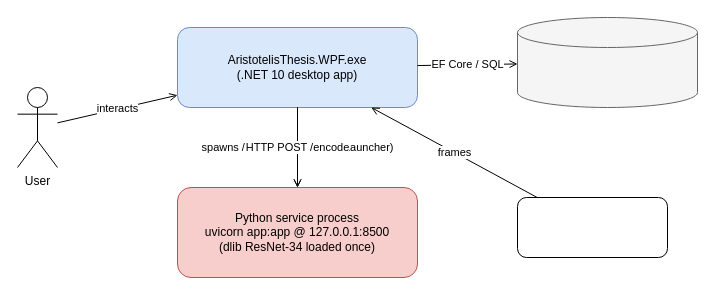
This 715x295 diagram has some shape labels left out. The centre of each missing label's shape, as x and y in pixels:
SQL Server LocalDB AristotelisThesisDB: point (607, 62)
Webcam: point (592, 227)
